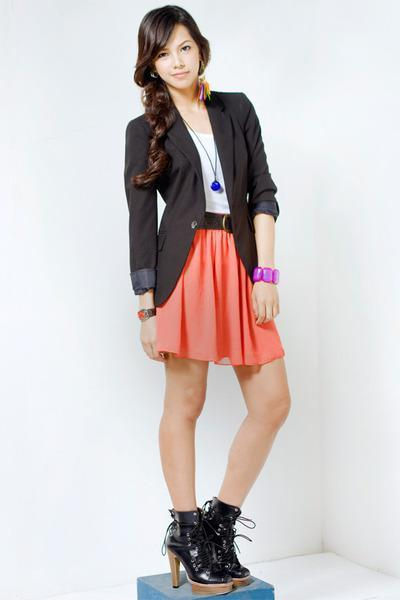Shorts: (148, 222, 295, 364)
jacket: (119, 88, 284, 304)
vest: (184, 126, 229, 218)
